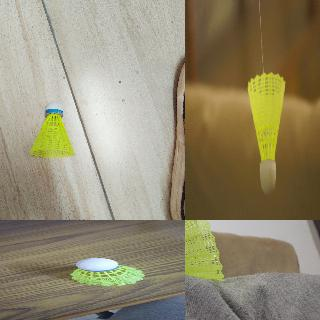shuttlecock: (247, 71, 285, 193), (30, 101, 74, 159), (185, 220, 224, 281), (70, 258, 144, 286)
